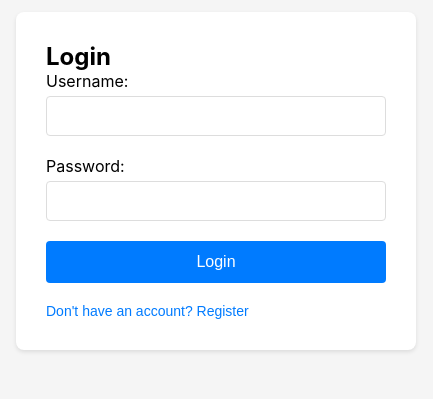
it: LoginPage › handles failed login
This screenshot has width=433, height=399.
In the field labelled "Username:": (216,116) [46,96,386,136], type "testuser"
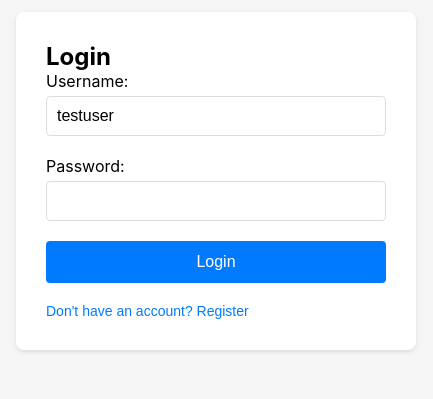
In the password field labelled "Password:": (216,201) [46,181,386,221], type "wrongpassword"
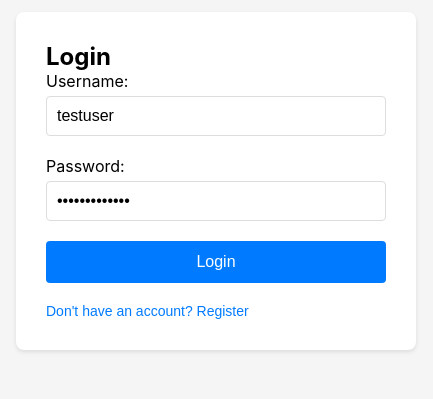
Click the button "Login": (216,262) [46,241,386,283]
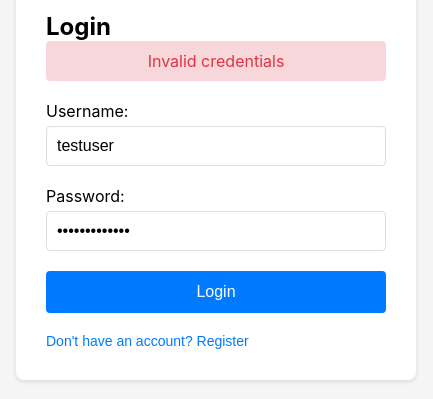
expect the text "Invalid credentials" is shown: met, box [46,41,386,81]
